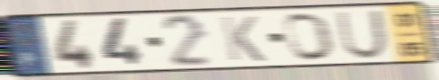2: (160, 12, 219, 70)
4: (100, 15, 150, 70), (51, 17, 98, 72)
K: (218, 15, 268, 63)
O: (282, 11, 338, 63)
U: (334, 8, 390, 61)
